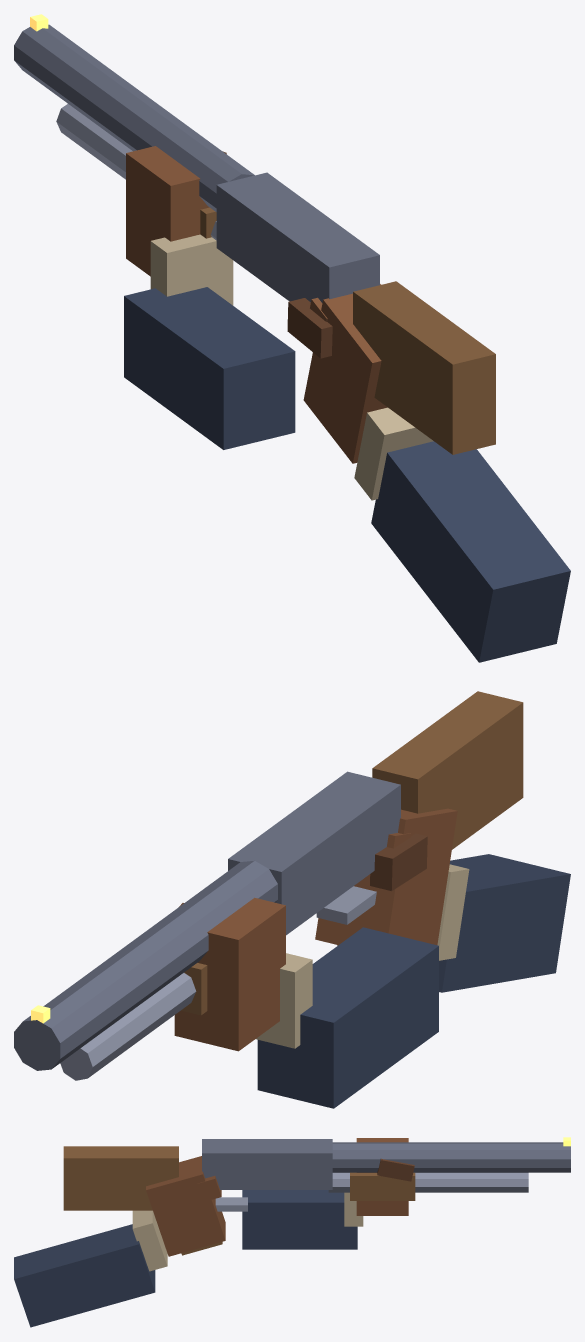
Rendered from weapon_shotgun.glb.
3 renders of one model, top to bottom at view 1: azimuth 30°, elevation 25°; view 2: azimuth 150°, elevation 25°; view 3: azimuth 270°, elevation 25°, orthographic. The views are drawn at different scales.
Visible parts, largest first — view 1: shotgun; view 2: shotgun; view 3: shotgun.
Boxes of the visible parts, box(x1,y1,x2,y2) form: shotgun: box(14, 14, 570, 662); shotgun: box(14, 691, 570, 1108); shotgun: box(14, 1137, 570, 1327).
Bounding box in the file's own units: 0.261 × 0.4975 × 1.45.
